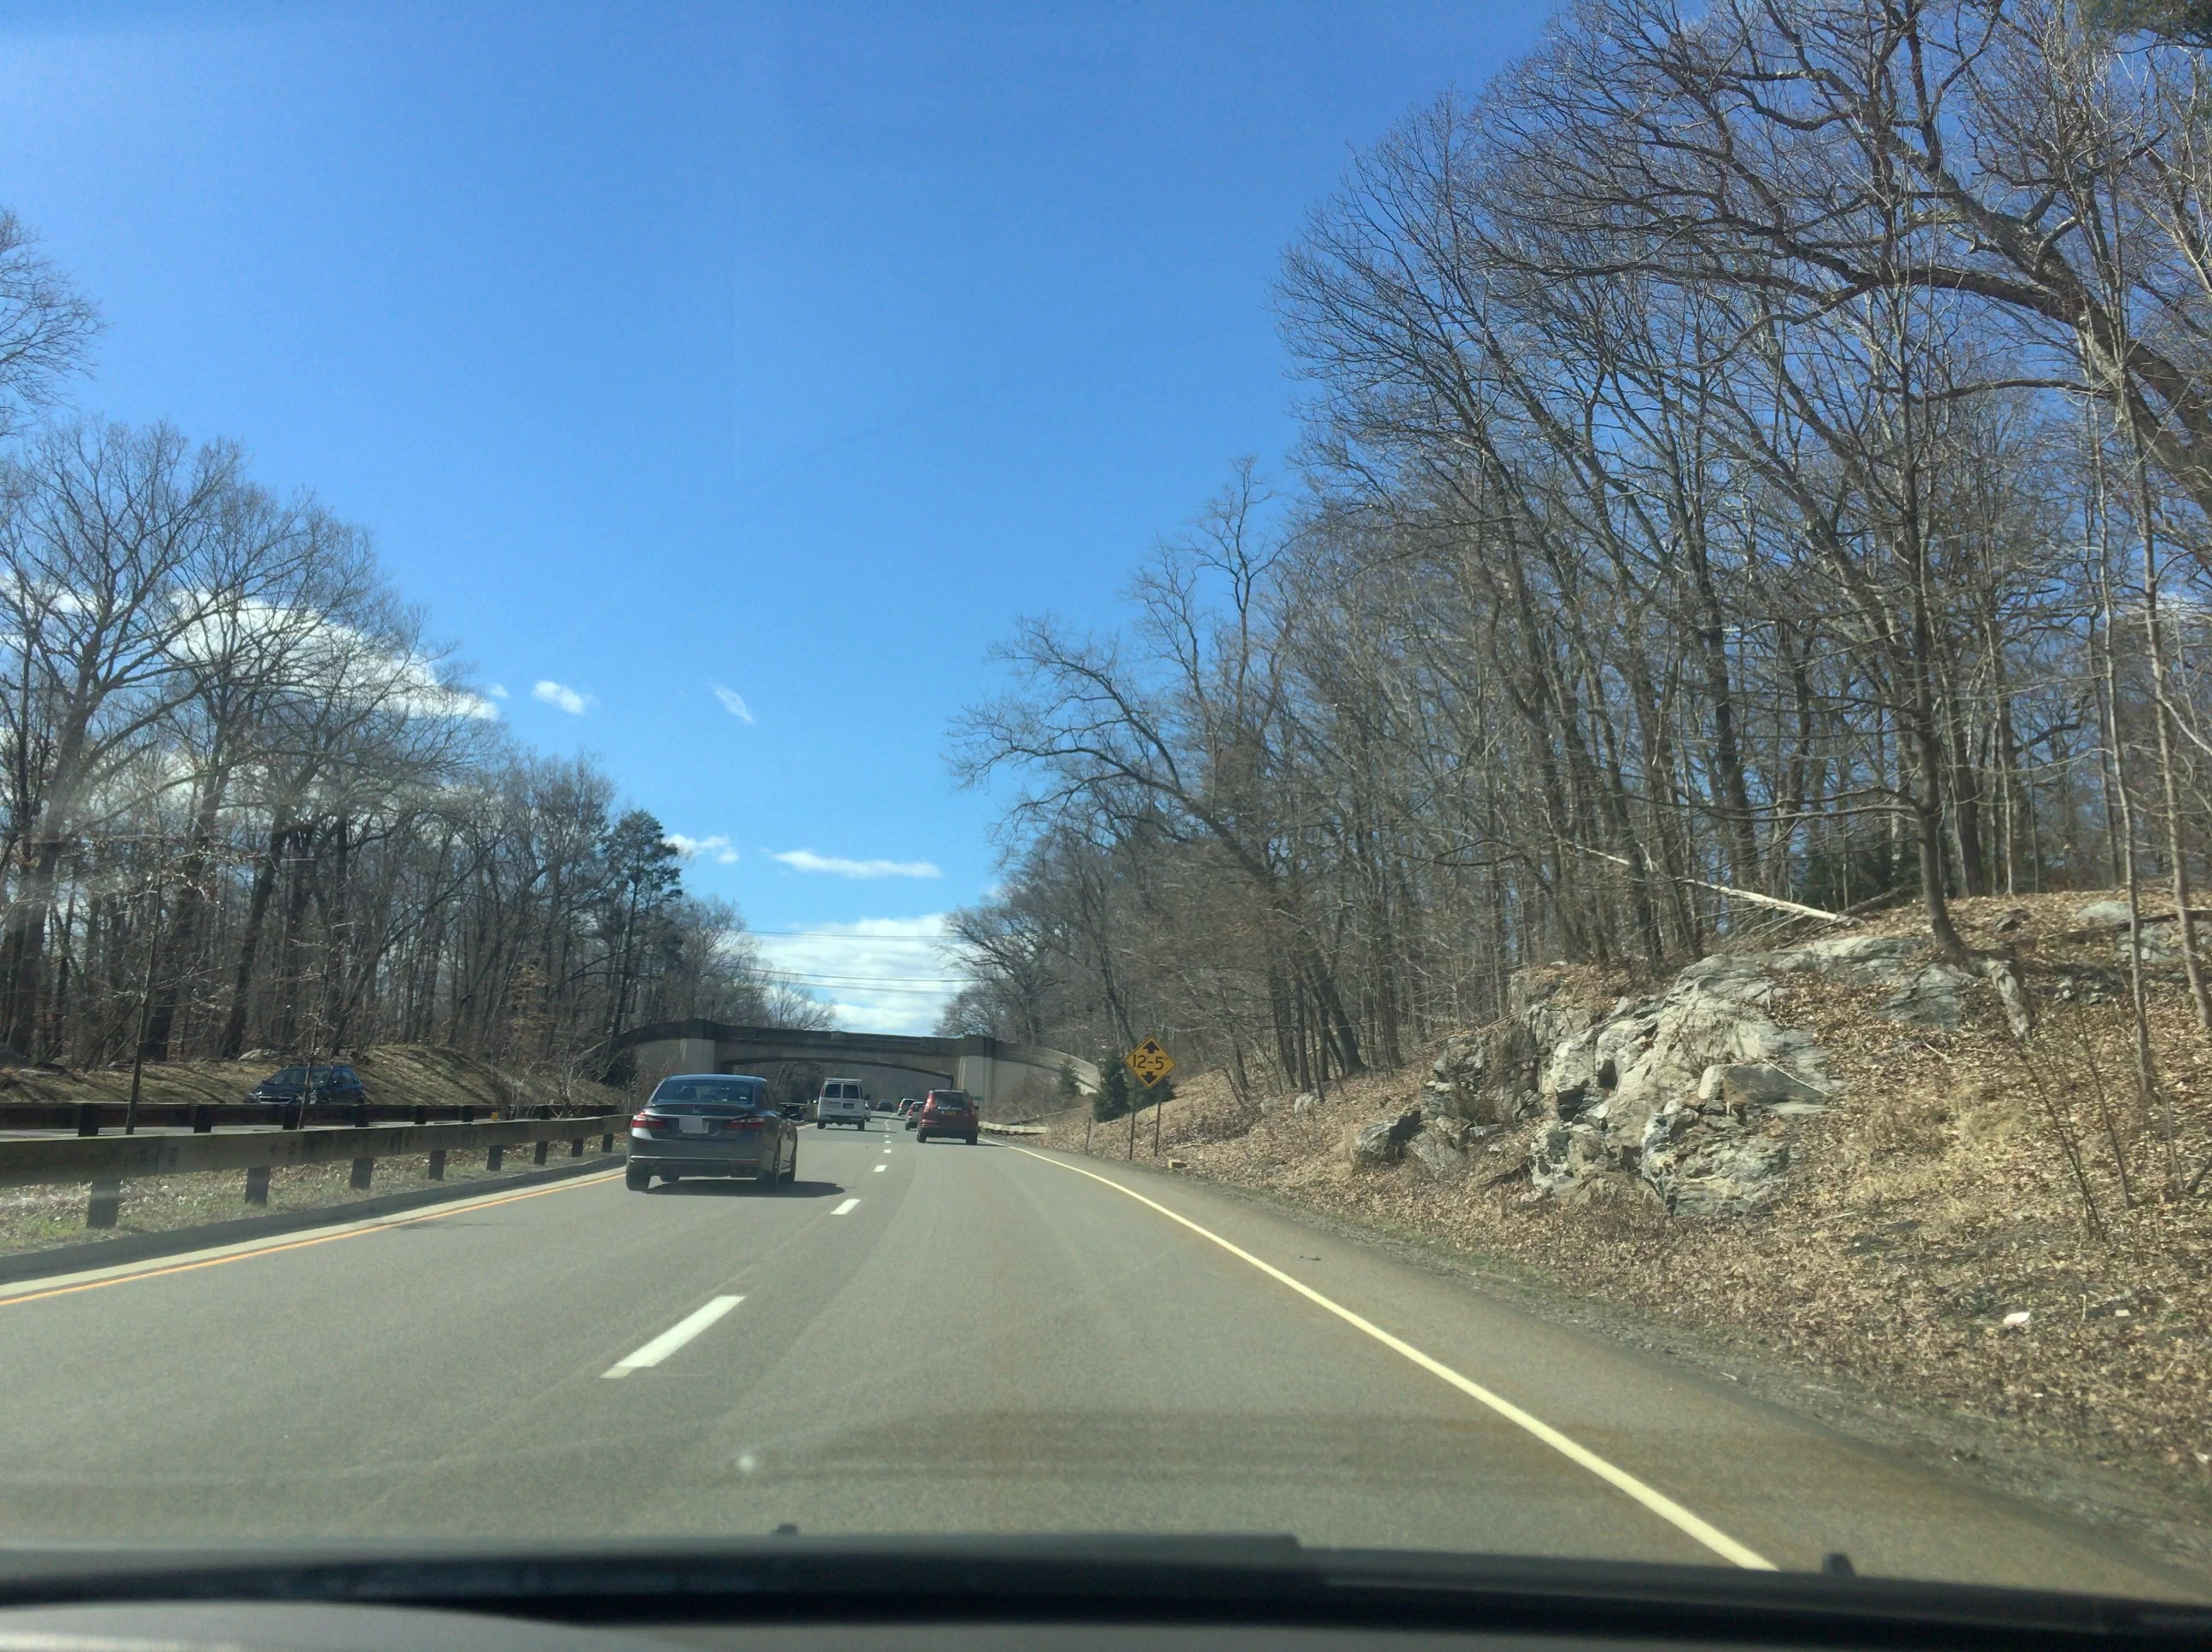low-clearance-sign: (1122, 1036, 1176, 1090)
